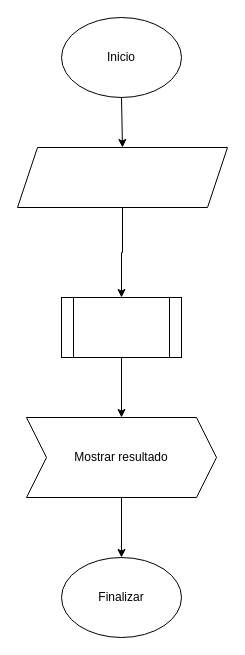
This 245x655 diagram has some shape labels left out. The centre of each missing label's shape, as x and y in pixels:
"Digitar o diretóirio a ser explorado" belongs at point 122,177.
"Listar" belongs at point 121,327.
